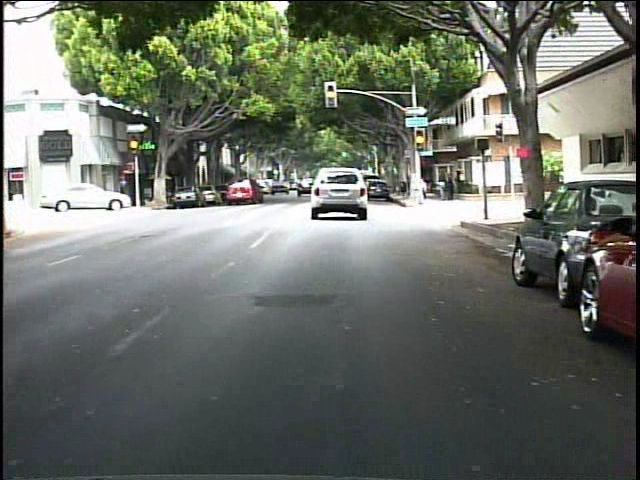person: (409, 171, 430, 210), (452, 164, 467, 196), (445, 168, 458, 204), (436, 170, 450, 202)
